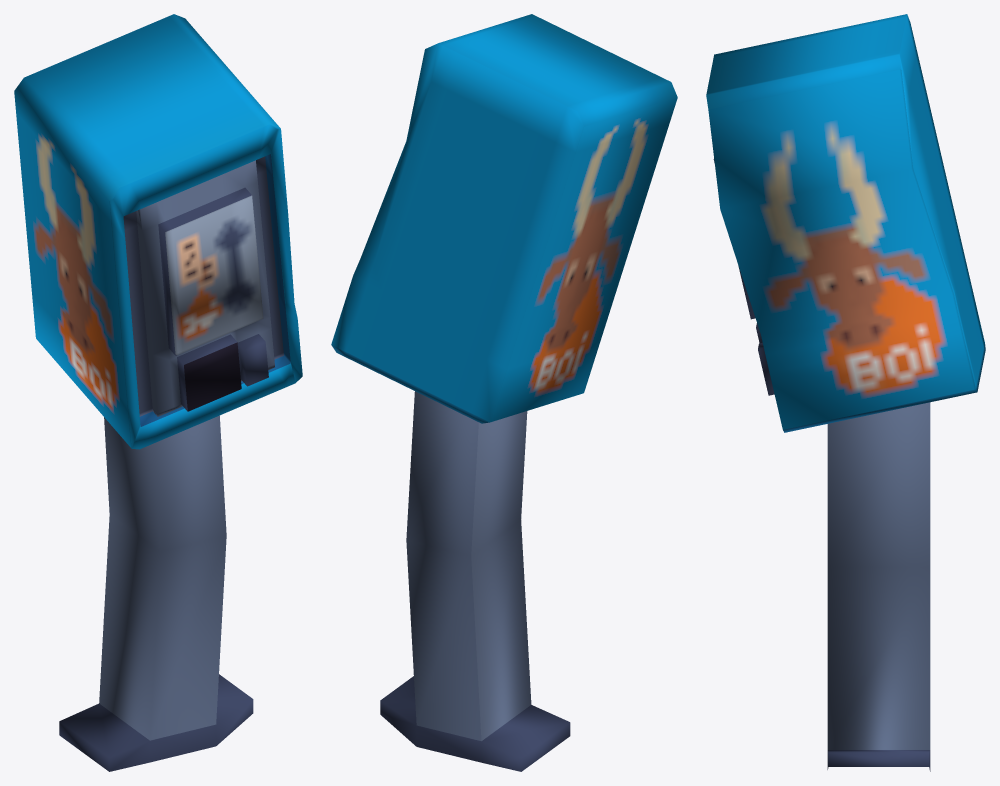
Rendered from OrelhaoQuebrado.fbx.
3 views of the same model, side by side, from view 1: azimuth 30°, elevation 25°; view 2: azimuth 150°, elevation 25°; view 3: azimuth 270°, elevation 25° (orthographic). The views are drawn at different scales.
Visible parts, largest first — view 1: TelefonePublico; view 2: TelefonePublico; view 3: TelefonePublico.
Boxes of the visible parts, <box> form: TelefonePublico: <box>14,14,302,771</box>; TelefonePublico: <box>331,14,677,771</box>; TelefonePublico: <box>706,14,985,771</box>.
Bounding box in the file's own units: 48.06 × 144 × 51.2.
